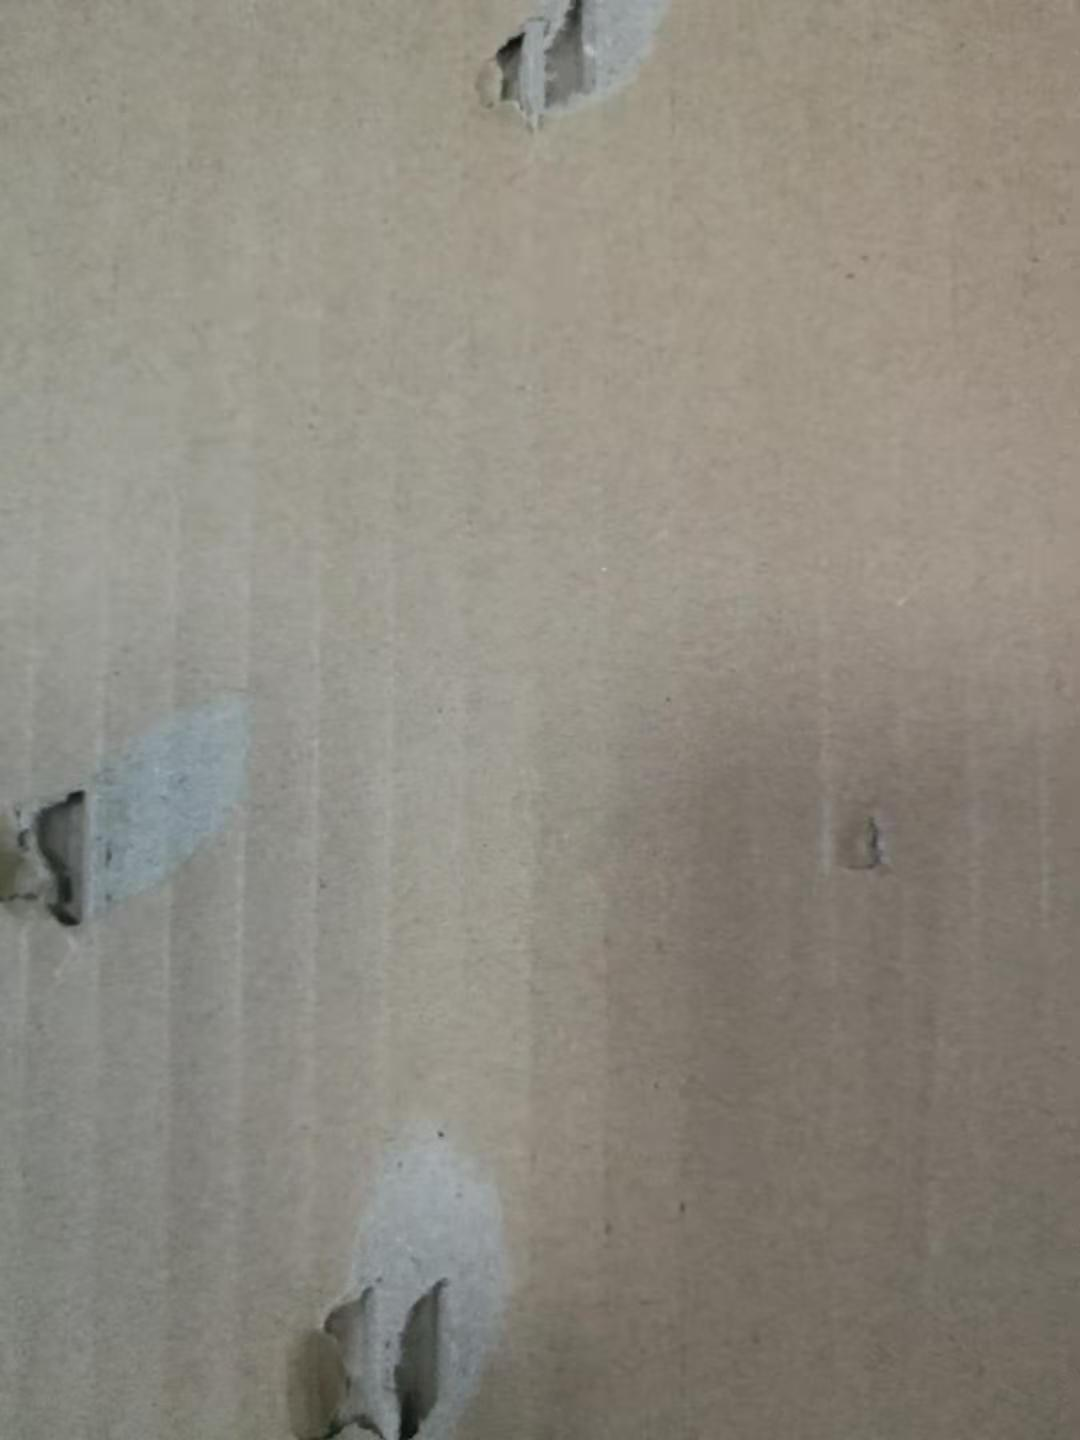defect: (248, 1075, 566, 1440), (1, 676, 309, 975), (439, 1, 711, 153), (808, 787, 911, 895)
